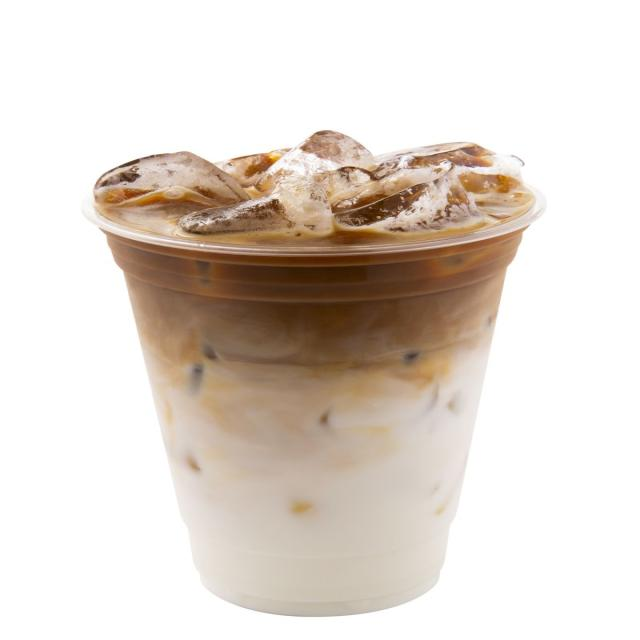plastic cup: (80, 130, 547, 618)
